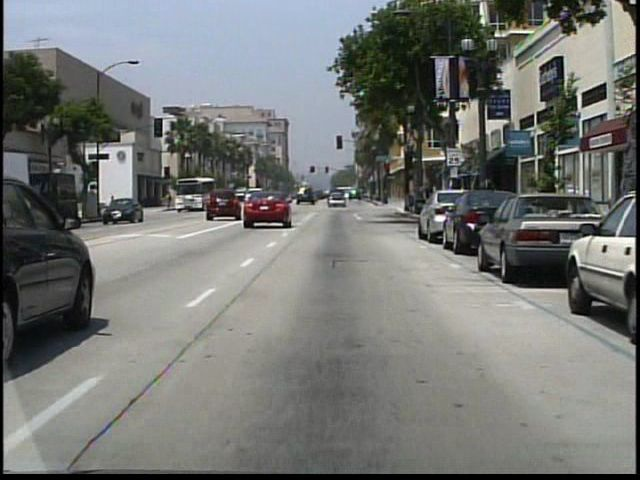person: (110, 194, 119, 216)
